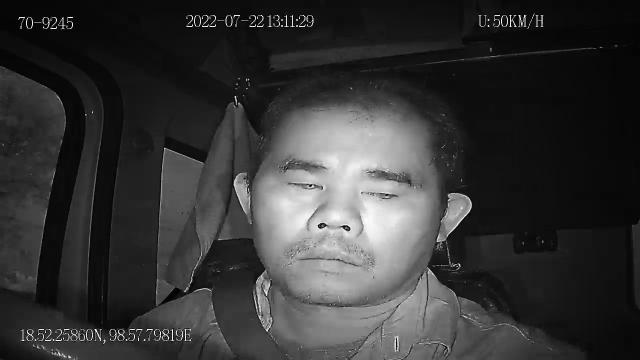SafeDriving: (352, 172, 420, 208), (276, 165, 334, 199)
Seatbelt: (210, 266, 294, 360)
